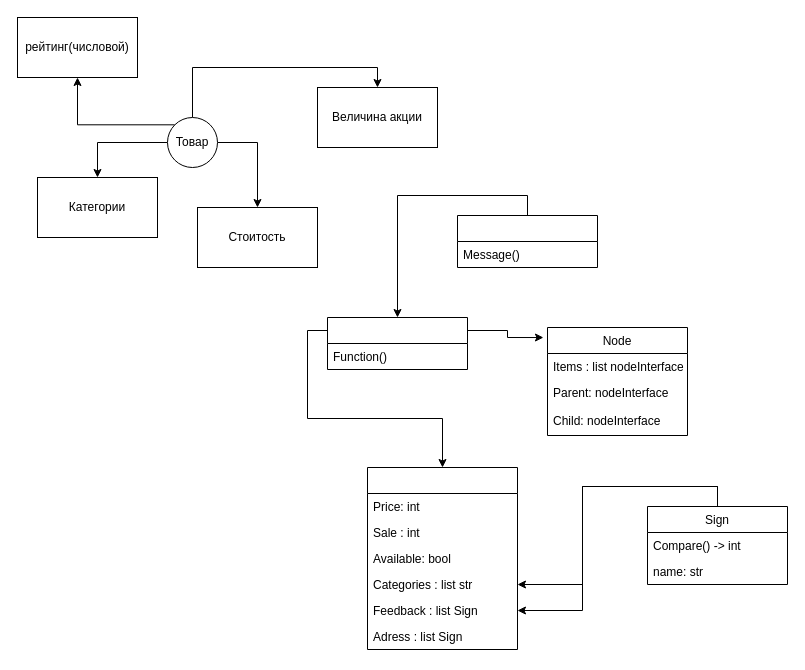
Some shapes in this 805 by 670 pixel diagram are drawn without their labels. The box of each missing label's shape, as (x1, y1, x2, y2) in pixels:
MessangerInterface: (456, 214, 598, 268)
NodeInterface: (326, 316, 468, 370)
Product: (366, 466, 518, 650)
